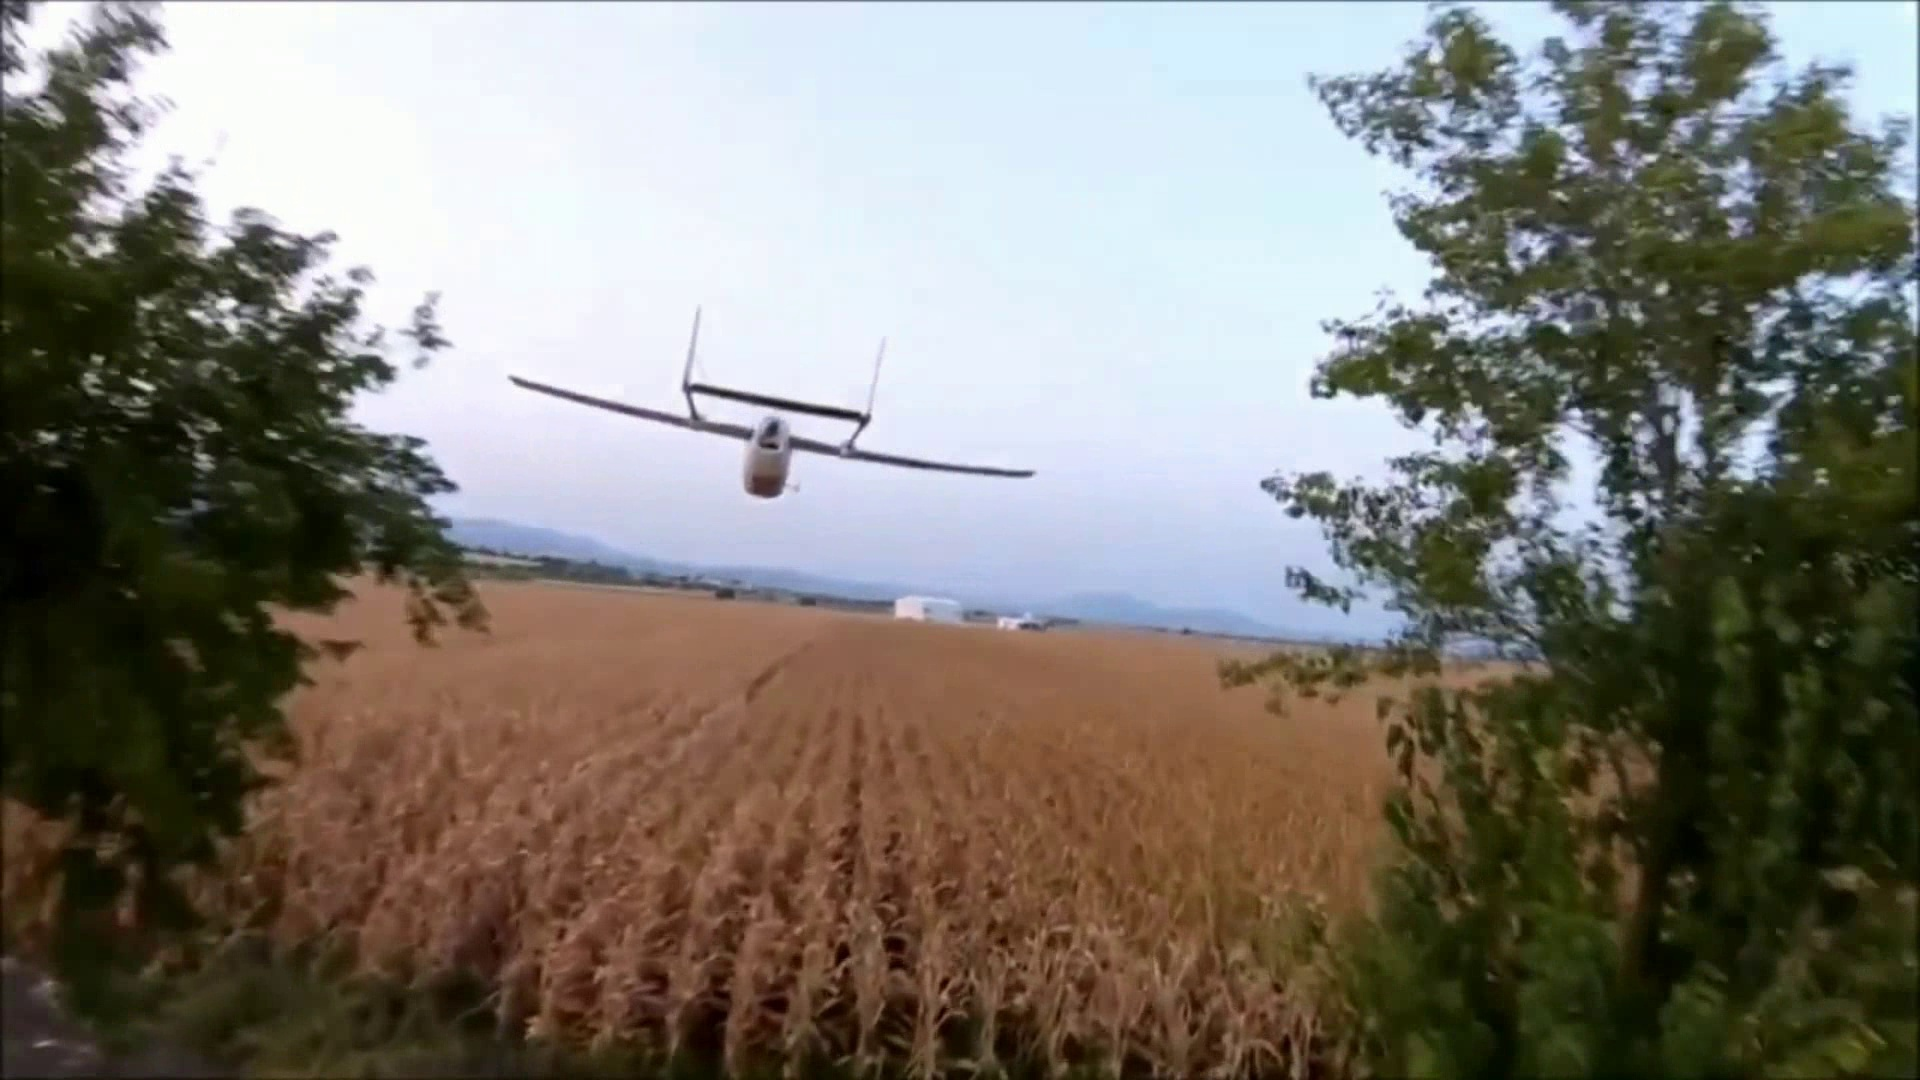airplane: (506, 302, 1035, 497)
